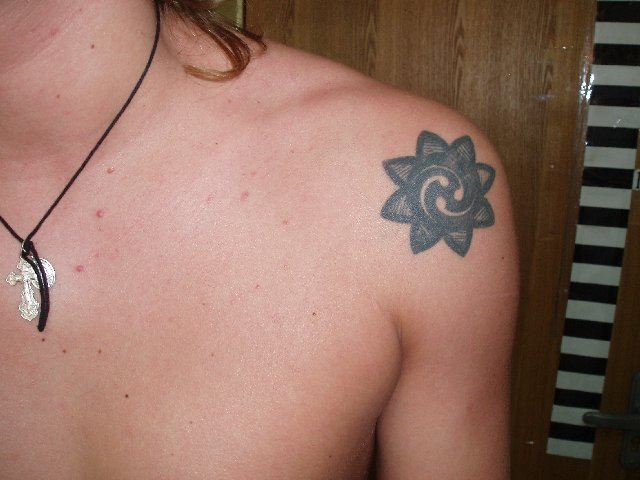tatu4_zvezda: (380, 132, 497, 259)
